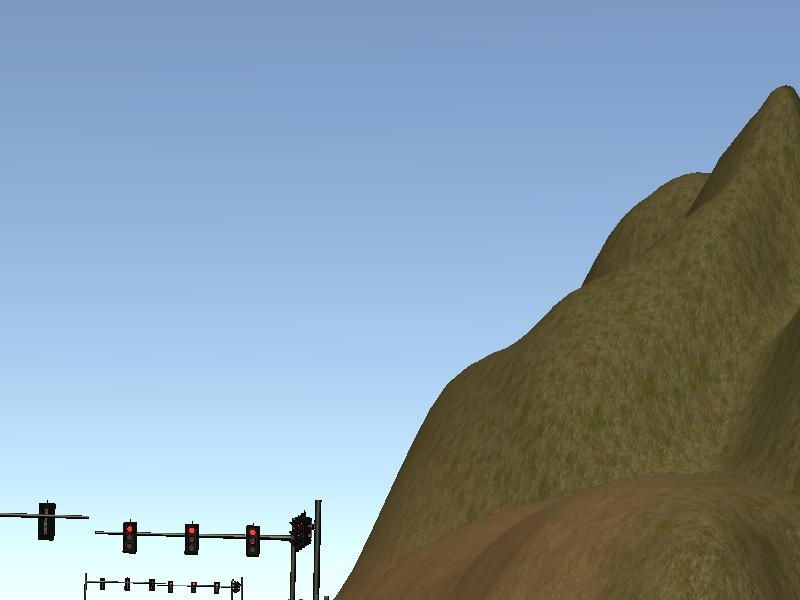red: (242, 520, 266, 562), (119, 517, 143, 556), (180, 520, 203, 559)
